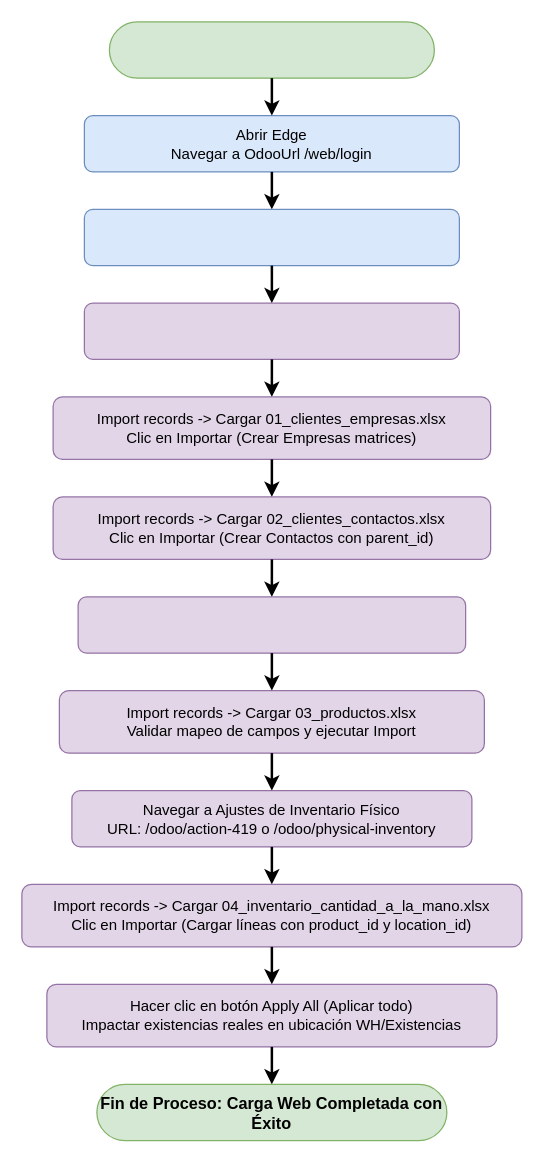
The diagram is 544 pixels wide and 1163 high, and some of its shapes have lost their labels. The shapes that lost their labels are listed below. From the top down, each one's centre as x and y in pixels, then its label:
At [271,49]: "Inicio: ImportarOdooWeb.xaml".
At [271,237]: "Ingresar credenciales (Admin) Hacer clic en Iniciar Sesión".
At [271,330]: "Navegar a Contactos URL: /odoo/contacts?view_type=list".
At [271,624]: "Navegar a Catálogo de Productos URL: /odoo/inventory/products?view_type=list".
